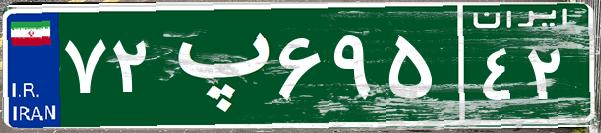2: (110, 28, 158, 105), (525, 38, 570, 115)
4: (475, 38, 525, 113)
5: (385, 28, 445, 110)
6: (273, 28, 330, 110)
7: (57, 26, 110, 107)
9: (330, 28, 385, 110)
پ: (158, 15, 273, 115)
